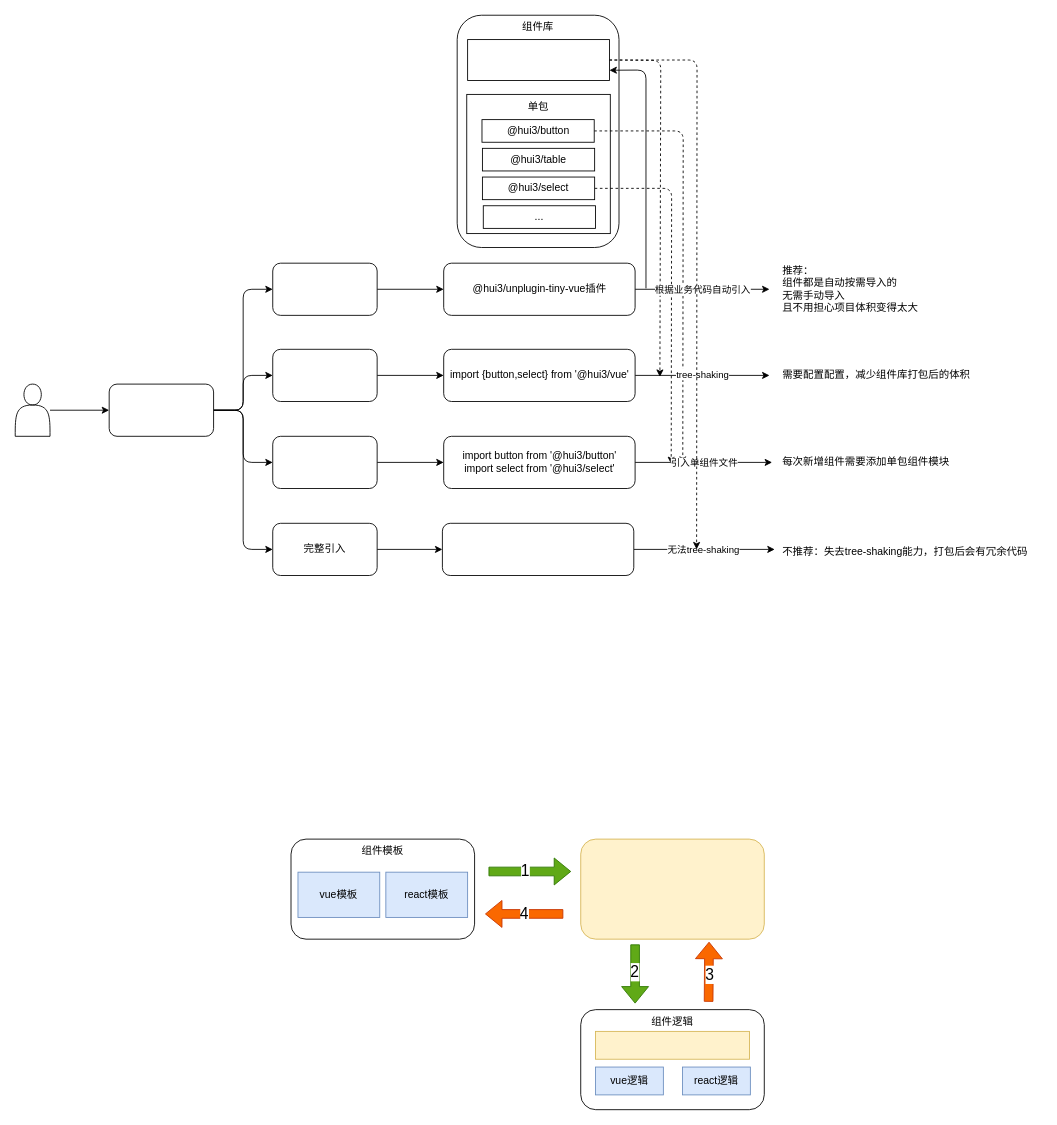
Image size: 1057x1125. Some labels were removed from this diagram. Here are the shapes that lost their labels. From the top down, the centre of each, then its label:
(x=538, y=59): 整包 @hui3/vue
(x=324, y=288): 自动导入
(x=324, y=375): 多组件引入
(x=161, y=409): 引入组件
(x=324, y=462): 单组件引入
(x=538, y=549): import hui3 from '@hui3/vue' app.use(hui3)
(x=672, y=888): 适配层
(x=672, y=1045): 无关化逻辑
